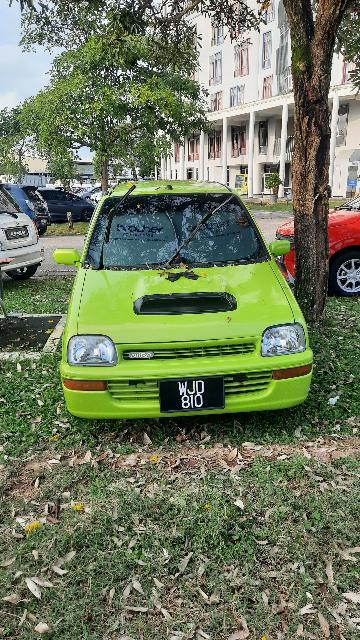License_Plate: (158, 373, 229, 417)
car: (48, 174, 315, 426)
